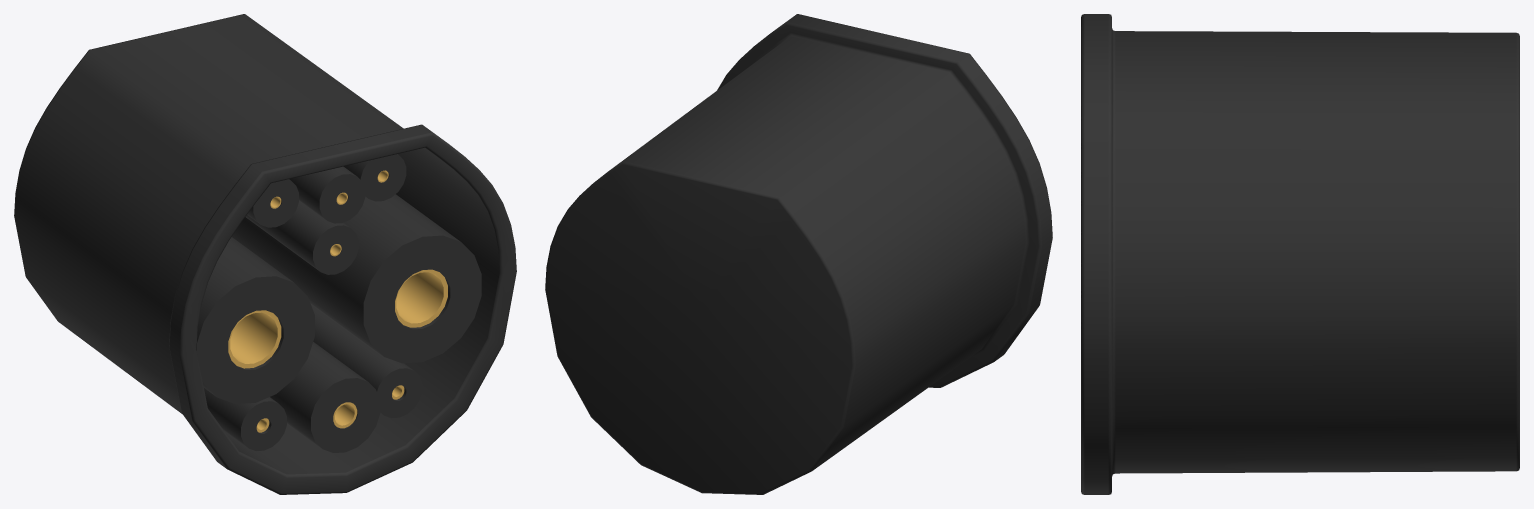
Rendered from zhiliuchongdianzuo.fbx.
3 renders of one model, left to right at view 1: azimuth 30°, elevation 25°; view 2: azimuth 150°, elevation 25°; view 3: azimuth 270°, elevation 25°, orthographic. The views are drawn at different scales.
Visible parts, largest first — view 1: Circle001, Tube001, Tube020, Tube011, Tube016, Tube003, Tube014, Tube005, Tube022, Tube021, Tube018, Tube009; view 2: Circle001; view 3: Circle001.
Part boxes in pixels (<box>): Circle001: <box>14,14,516,494</box>; Tube001: <box>232,194,481,363</box>; Tube020: <box>196,237,314,403</box>; Tube011: <box>270,342,380,452</box>; Tube016: <box>310,303,422,418</box>; Tube003: <box>245,200,358,274</box>; Tube014: <box>204,388,286,450</box>; Tube005: <box>289,166,365,223</box>; Tube022: <box>228,310,281,368</box>; Tube021: <box>395,269,447,327</box>; Tube018: <box>344,154,406,201</box>; Tube009: <box>247,179,298,227</box>; Circle001: <box>545,14,1052,494</box>; Circle001: <box>1081,14,1519,494</box>.
Bounding box in the file's own units: 13.75 × 13.32 × 12.91.
Materials: 1 (1 with a texture image).
